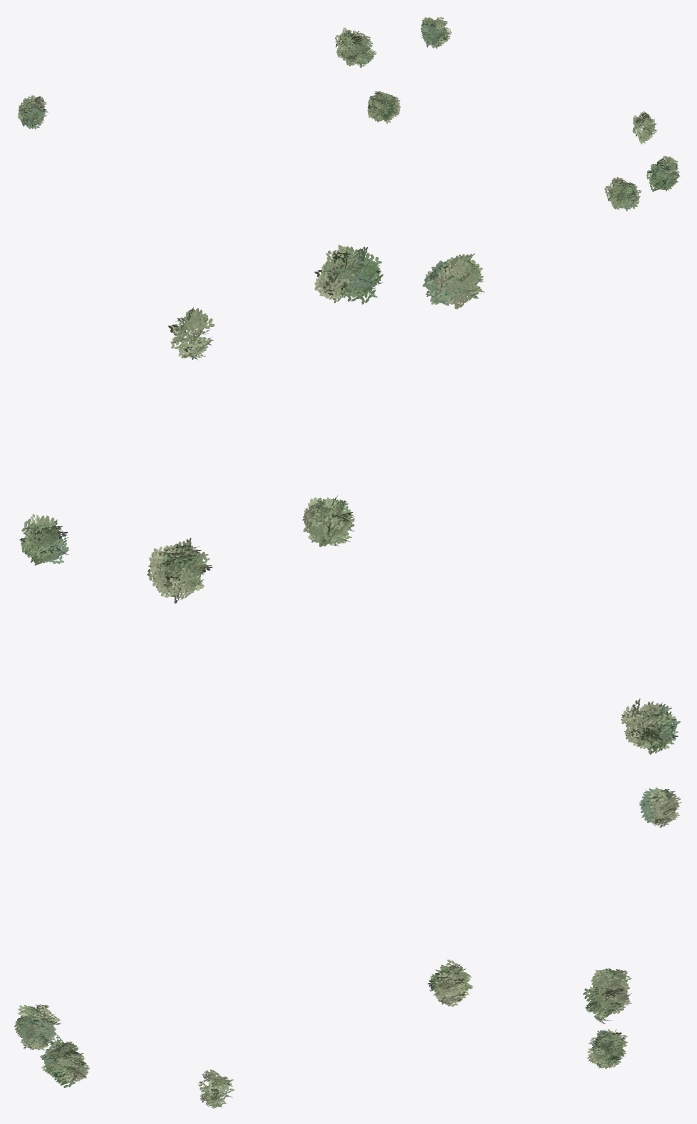
Rendered from campus-tree--3_-3-middle.glb.
3 views of the same model, one above another, from view 1: azimuth 30°, elevation 25°; view 2: azimuth 150°, elevation 25°; view 3: azimuth 270°, elevation 25° (orthographic). The views are drawn at different scales.
Parts seen in each view (by area): view 1: Campus leaf canopy; view 2: Campus leaf canopy; view 3: Campus leaf canopy.
Part boxes in pixels (x1,y1,x2,y2): Campus leaf canopy: [17, 17, 679, 210]; Campus leaf canopy: [19, 244, 680, 754]; Campus leaf canopy: [14, 787, 681, 1108].
Bounding box in the file's own units: 75.65 × 6.59 × 70.36.
1 material, 1 textured.
